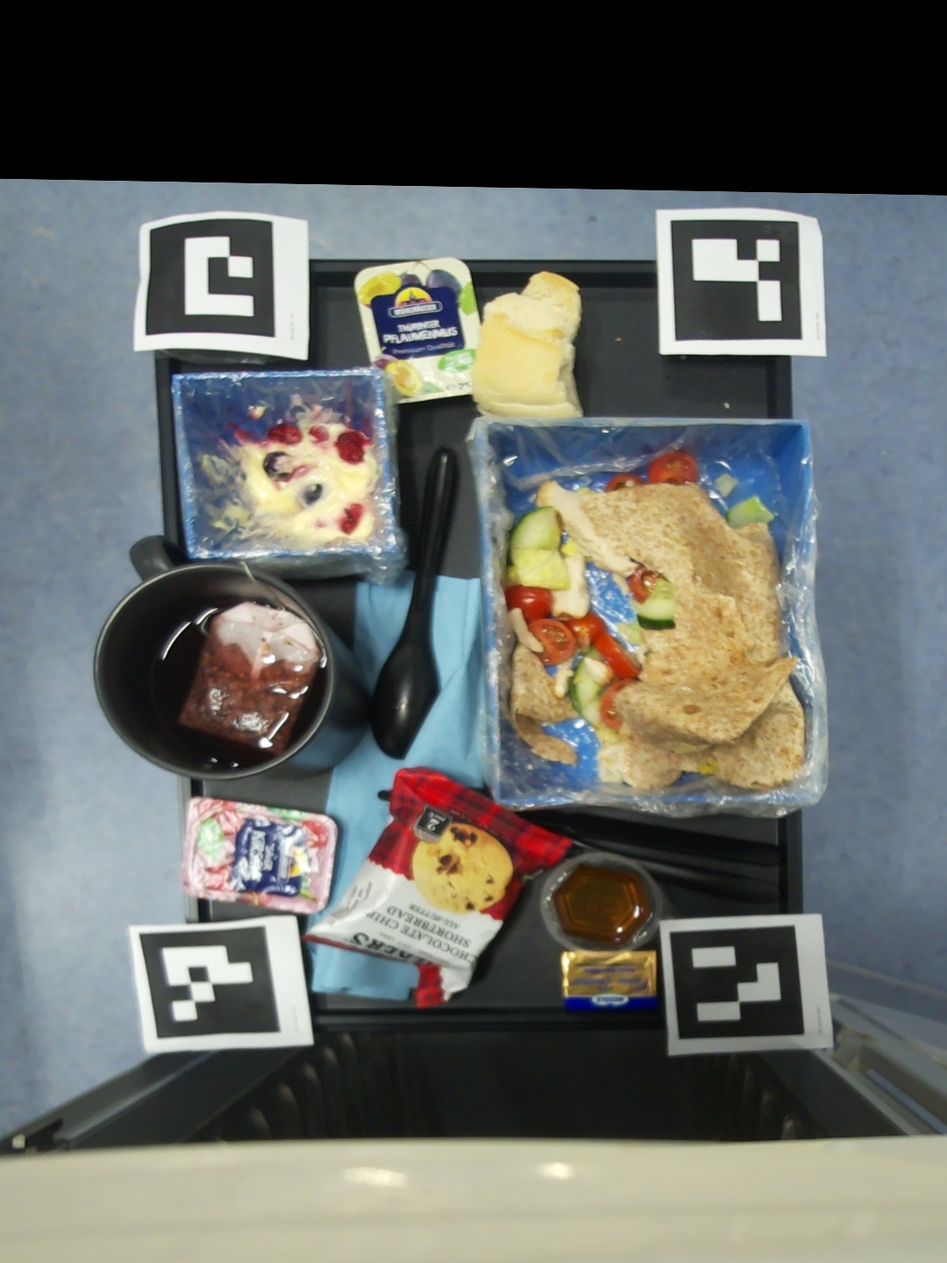bread_roll: (473, 271, 583, 417)
butter: (560, 950, 658, 1011)
cherry_jam: (182, 798, 338, 914)
cookie: (303, 766, 575, 1007)
honey: (541, 852, 680, 950)
plum_jam: (354, 256, 493, 403)
tea_cup: (93, 535, 371, 780)
vanilla_pudding_with_fruits: (227, 413, 380, 548)
wrap_half_1: (515, 623, 644, 767)
wrap_half_2: (506, 450, 805, 791), (714, 474, 738, 497)
